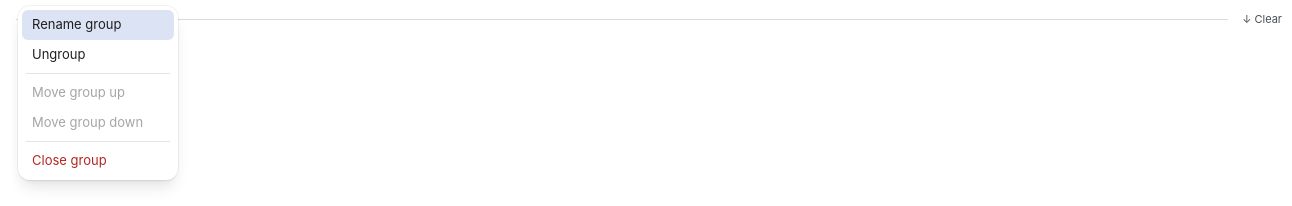
Test: offers "Ungroup" in the right-click menu of the header and sends the command
This screenshot has width=1292, height=206.
Click the menu item "Ungroup" at (98, 54), box [22,40,174,69]
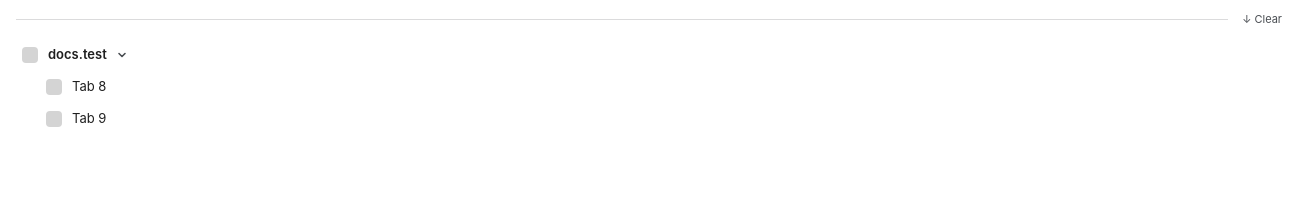
expect the menu is gone: met
